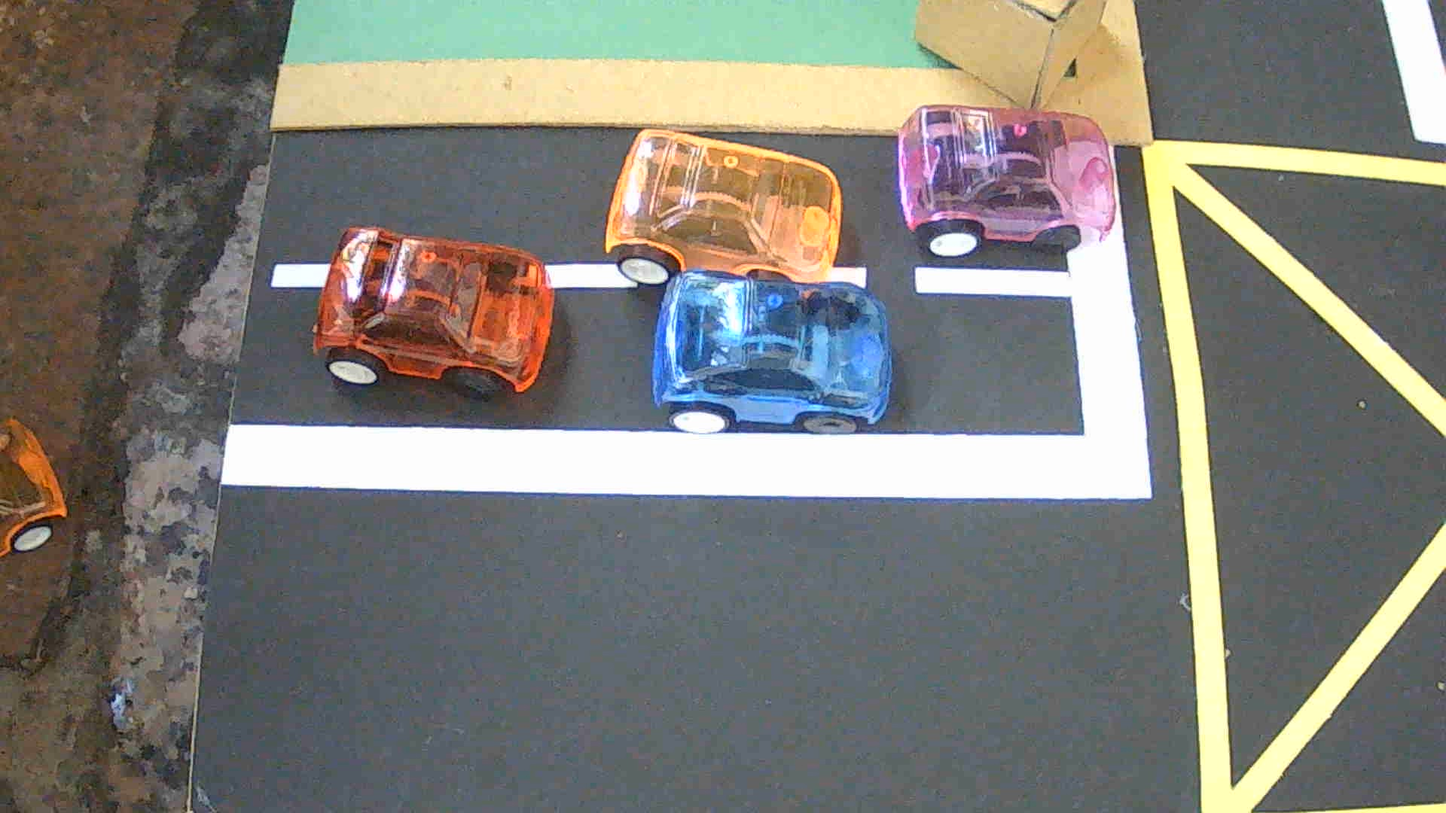Mobil biru: (652, 270, 892, 434)
Mobil merah: (313, 227, 554, 397)
Mobil orange: (604, 129, 840, 285)
Mobil ungu: (897, 105, 1116, 257)
